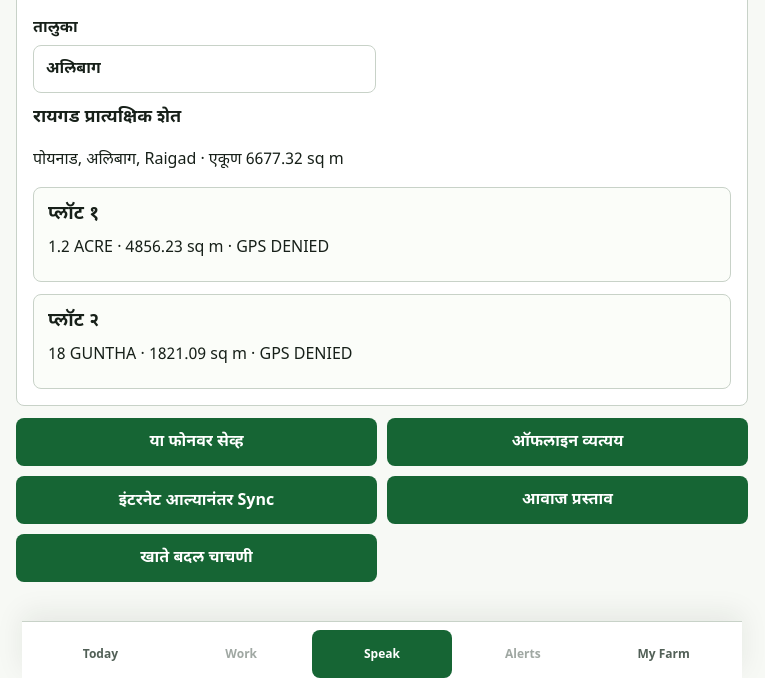
Test: Farmer setup screen › requires confirmation before applying a voice proposal and supports cancellation
The image size is (765, 678).
(page scrolled)
Click the button "आवाज प्रस्ताव".
click(568, 500)  # box [387,476,748,524]
(page scrolled)
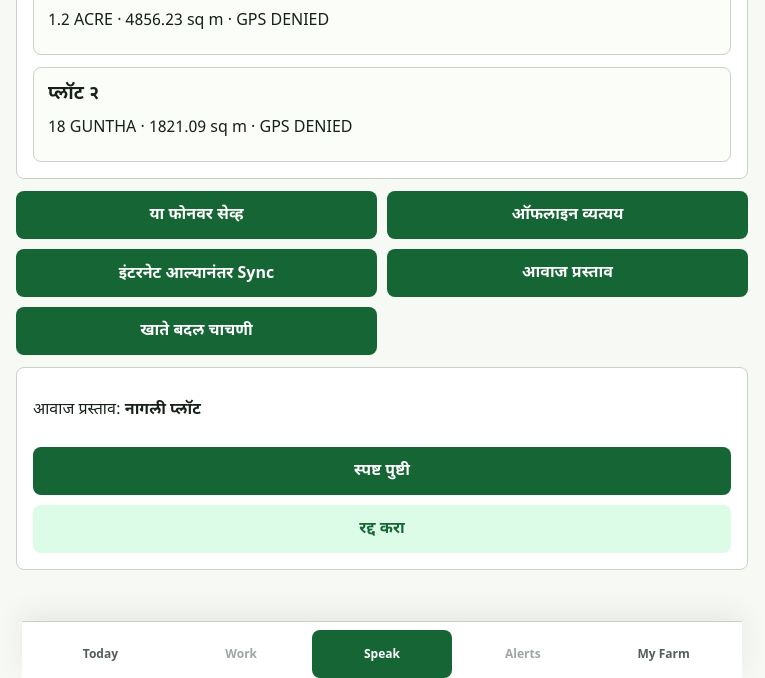
Expected: the heading "प्लॉट २" is shown, [48,82,99,108]
Expected: the text "नागली प्लॉट" is shown, [125,400,201,422]
Click the button "रद्द करा".
click(382, 530)  # box [33,506,731,554]
(page scrolled)
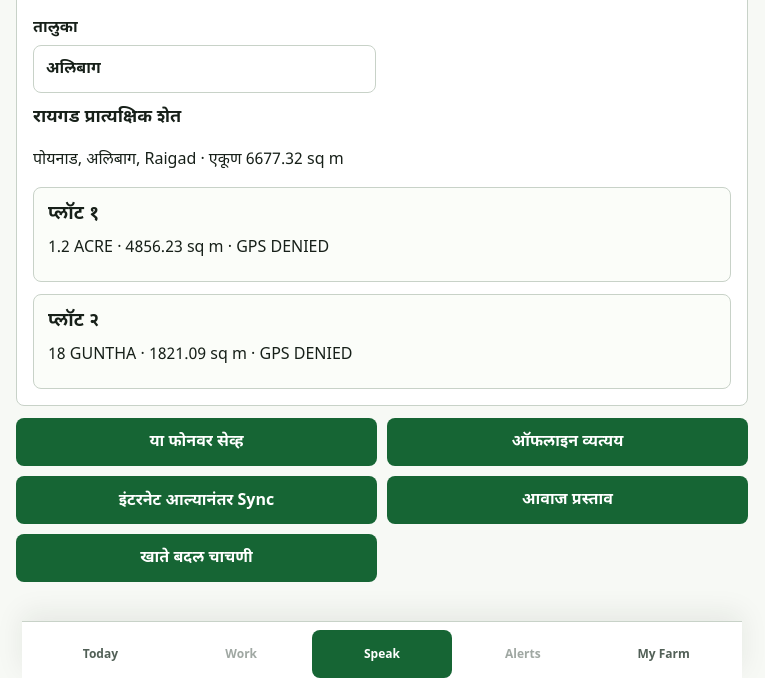
Expected: the text "आवाज प्रस्ताव:" is gone
Click the button "आवाज प्रस्ताव".
click(568, 500)  # box [387,476,748,524]
(page scrolled)
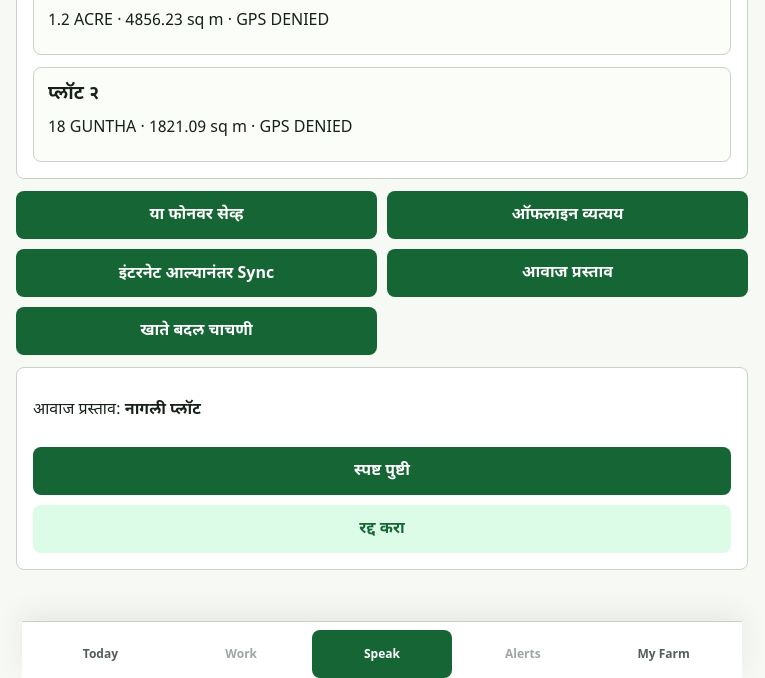
Click the button "स्पष्ट पुष्टी".
click(382, 472)  # box [33,448,731,496]
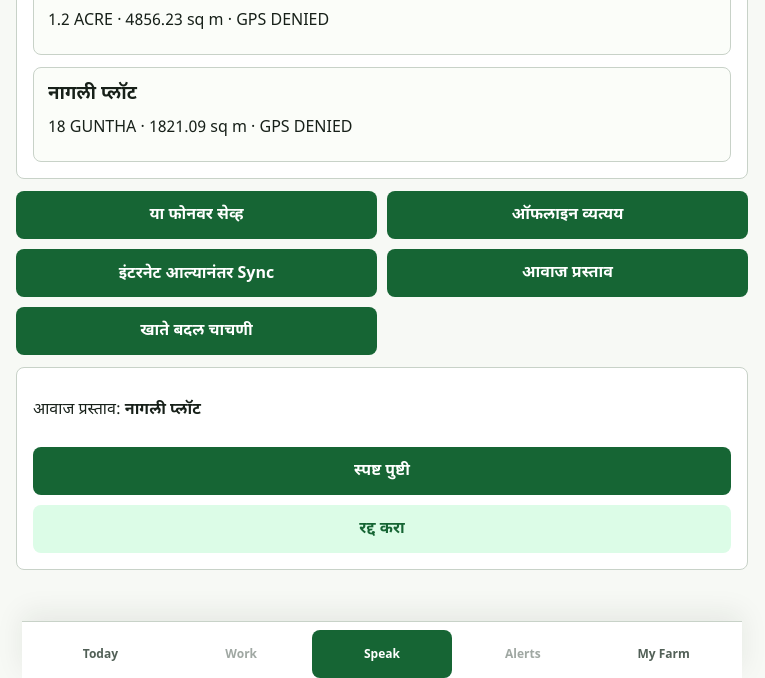
Expected: the heading "नागली प्लॉट" is shown, [48,82,137,108]
